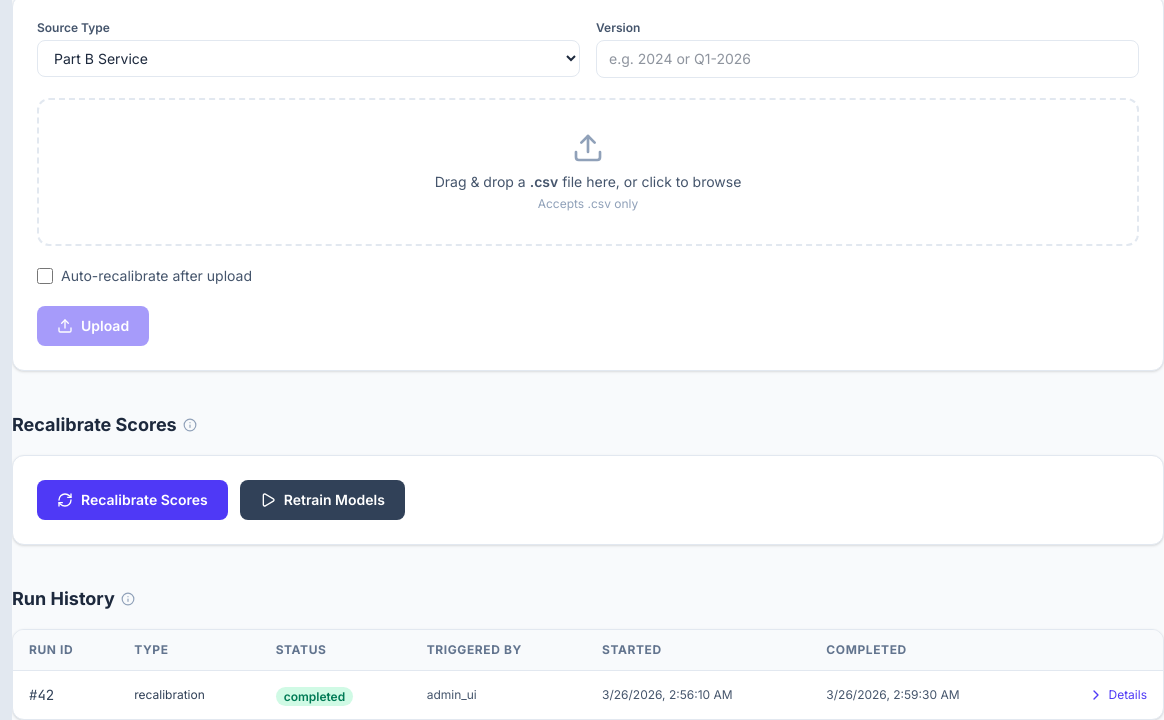
it: DataManagement › shows metrics in expanded stage detail
This screenshot has width=1164, height=720.
(page scrolled)
Click the button "Details": (1118,695) [1088, 687, 1147, 703]
(page scrolled)
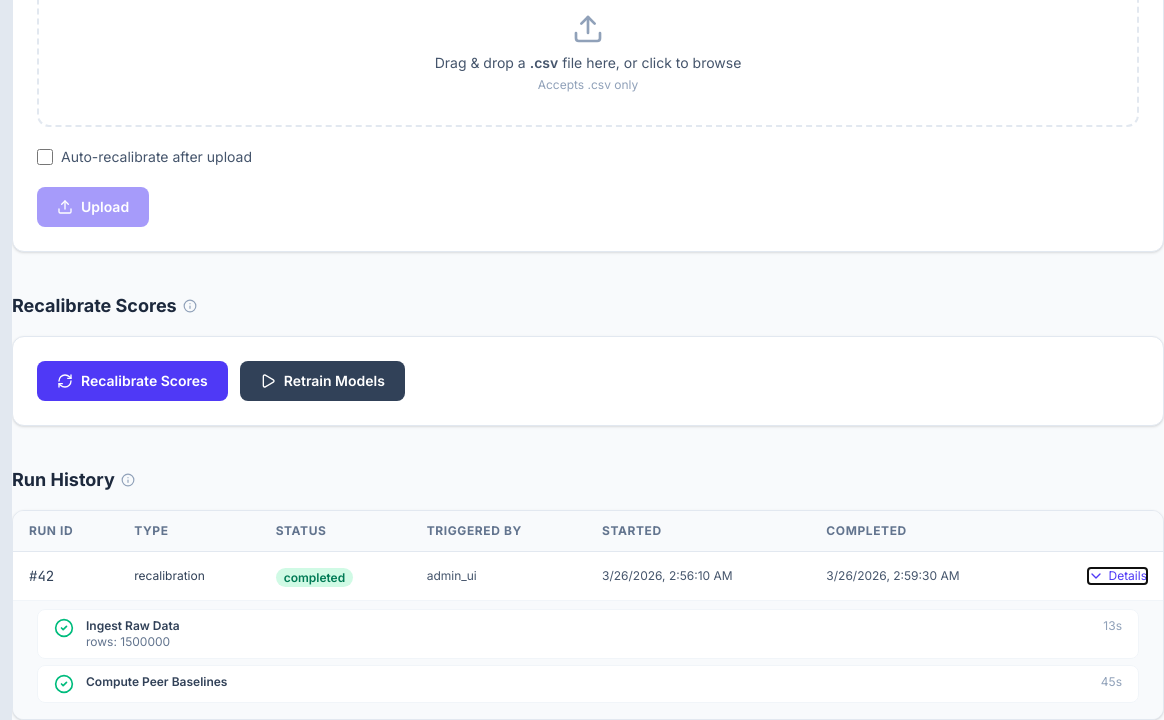
Result: the text "rows: 1500000" is shown at [86, 634, 170, 649]
